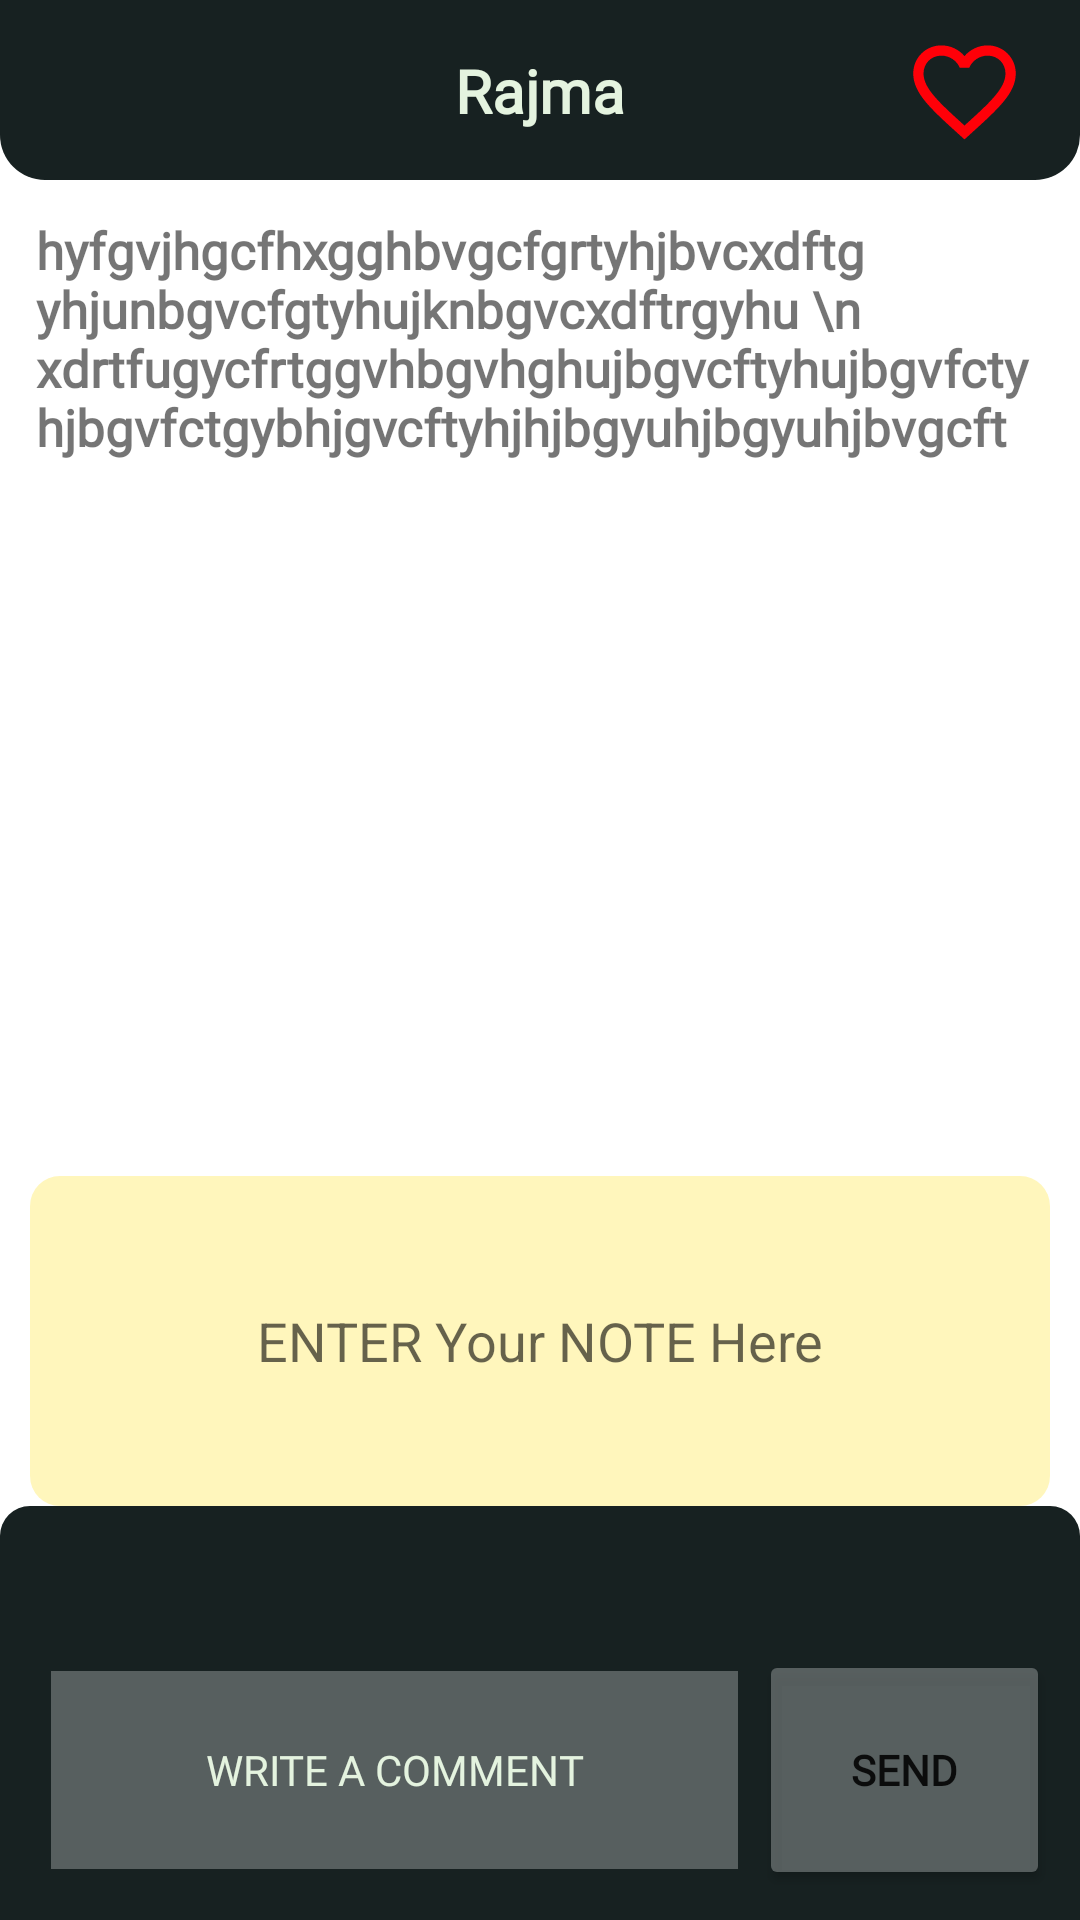

Screen size 1080x1920. Icon name, then its box in pixels as box=[x1, y1, x2, y2]:
favourate: box=[913, 45, 1016, 140]
